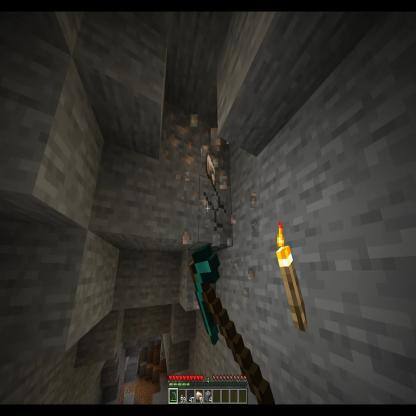iron ore: (158, 111, 200, 173), (198, 118, 233, 181)
